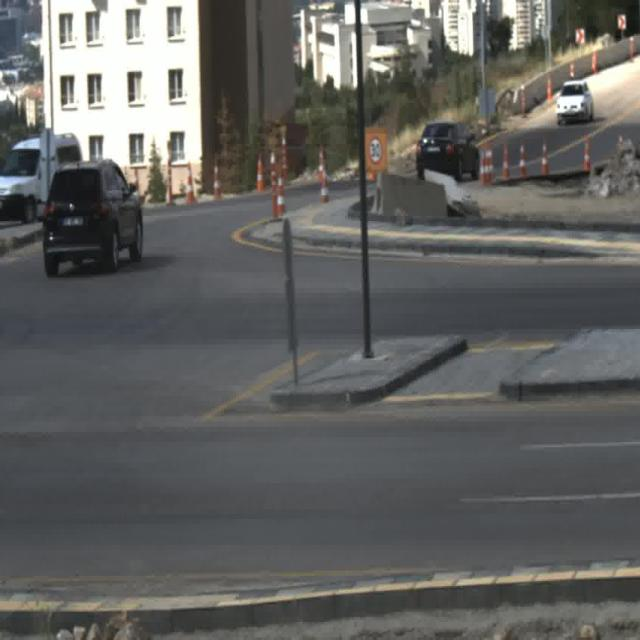Car: (44, 155, 146, 279), (1, 132, 78, 223), (418, 124, 480, 182), (556, 78, 598, 124)
